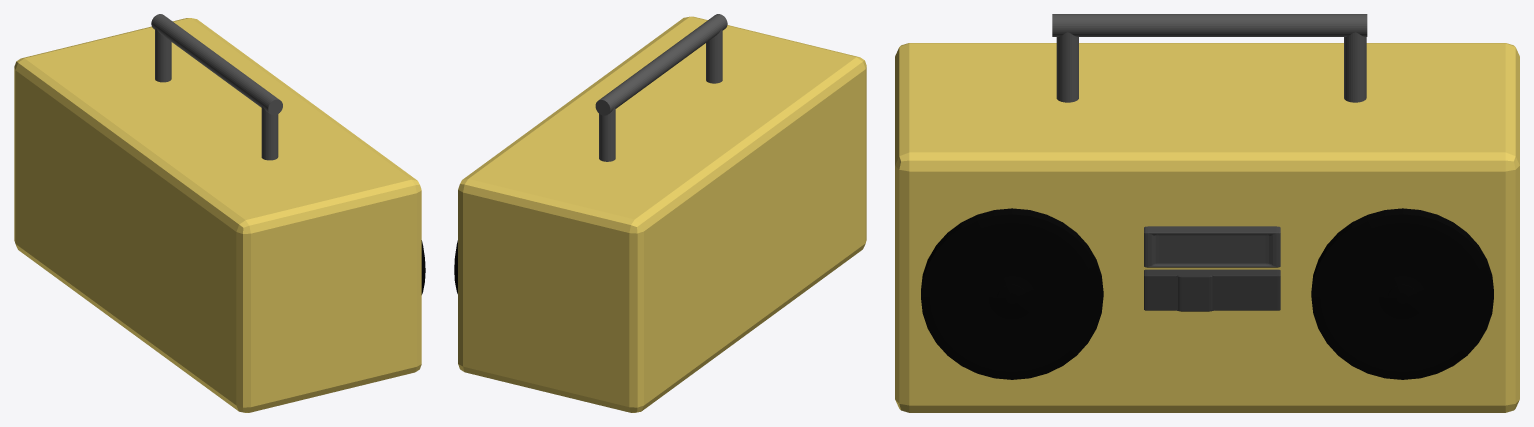
The model's file is Radio.fbx.
The picture shows the model from 3 angles, left to right: view 1: azimuth 30°, elevation 25°; view 2: azimuth 150°, elevation 25°; view 3: azimuth 270°, elevation 25°; orthographic projection. The views are drawn at different scales.
Parts seen in each view (by area): view 1: Box, Handle; view 2: Box, Handle; view 3: Box, Speakers, Handle, Buttons, Casette Player.
Part boxes in pixels (x1,y1,x2,y2): Box: (14, 18, 421, 412); Handle: (151, 14, 282, 160); Box: (458, 16, 866, 412); Handle: (595, 14, 727, 161); Box: (895, 43, 1519, 412); Speakers: (921, 208, 1493, 379); Handle: (1052, 14, 1367, 102); Buttons: (1144, 269, 1280, 311); Casette Player: (1144, 226, 1280, 267).
Bounding box in the file's own units: 213 × 264 × 435.
